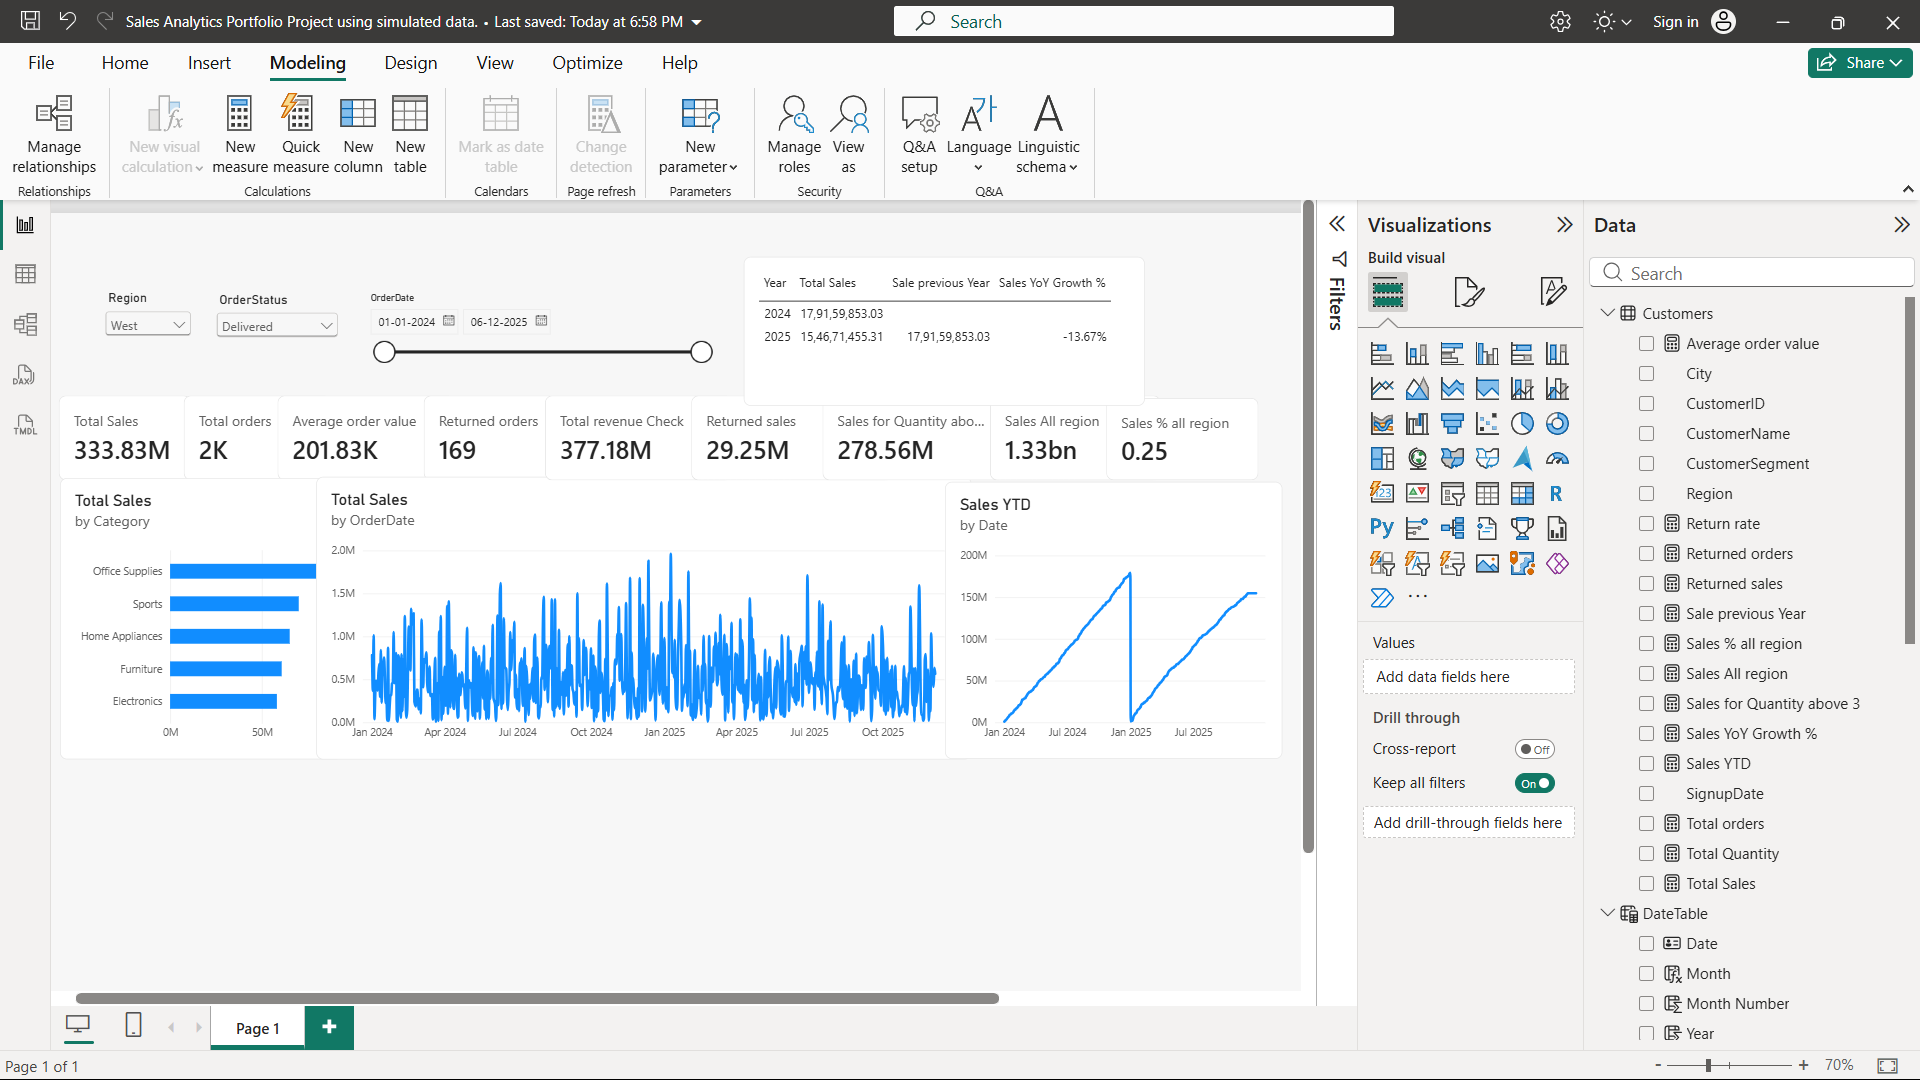

The page's visual inventory and layout, read from the dashboard file:
{"tool":"powerbi","page":{"name":"Page 1","canvas":[1920,1080],"ordinal":0},"visuals":[{"type":"cardVisual","fields":{"Data":["Customers.Total Sales"]},"box":[45.7,251.4,151.4,97.1],"z":0},{"type":"cardVisual","fields":{"Data":["Customers.Total orders"]},"box":[231.4,251.4,168.6,97.1],"z":1000},{"type":"cardVisual","fields":{"Data":["Customers.Average order value"]},"box":[444.3,251.4,202.9,97.1],"z":2000},{"type":"cardVisual","fields":{"Data":["Customers.Returned orders"]},"box":[677.1,251.4,151.4,97.1],"z":3000},{"type":"clusteredBarChart","fields":{"Category":["Products.Category"],"Y":["Customers.Total Sales"]},"box":[39.4,370.3,378.6,337.1],"z":3001},{"type":"lineChart","fields":{"Category":["Sales.OrderDate.Variation.Date Hierarchy.Year","Sales.OrderDate.Variation.Date Hierarchy.Month"],"Y":["Customers.Total Sales"]},"box":[429.7,368.6,924.3,337.1],"z":3002},{"type":"slicer","fields":{"Values":["Customers.Region"]},"box":[81.4,88.6,381.4,115.7],"z":3003},{"type":"slicer","fields":{"Values":["Sales.OrderStatus"]},"box":[498.6,88.6,385.7,115.7],"z":3004},{"type":"slicer","fields":{"Values":["Sales.OrderDate"]},"box":[891.7,72.3,414.3,115.7],"z":3005},{"type":"cardVisual","fields":{"Data":["Sales.Total revenue Check"]},"box":[884.3,251.4,214.3,97.1],"z":3006}]}

Visuals, with their boxes on the page's 1920x1080 design canvas (x1, y1, x2, y2). These are canvas units, not pixel positions in the 1920x1080 screenshot, which may show the page scaled, cropped or inside an application window:
cardVisual - Customers.Total Sales: rect(46, 251, 197, 348)
cardVisual - Customers.Total orders: rect(231, 251, 400, 348)
cardVisual - Customers.Average order value: rect(444, 251, 647, 348)
cardVisual - Customers.Returned orders: rect(677, 251, 828, 348)
clusteredBarChart - Products.Category x Customers.Total Sales: rect(39, 370, 418, 707)
lineChart - Sales.OrderDate.Variation.Date Hierarchy.Year x Sales.OrderDate.Variation.Date Hierarchy.Month: rect(430, 369, 1354, 706)
slicer - Customers.Region: rect(81, 89, 463, 204)
slicer - Sales.OrderStatus: rect(499, 89, 884, 204)
slicer - Sales.OrderDate: rect(892, 72, 1306, 188)
cardVisual - Sales.Total revenue Check: rect(884, 251, 1099, 348)
